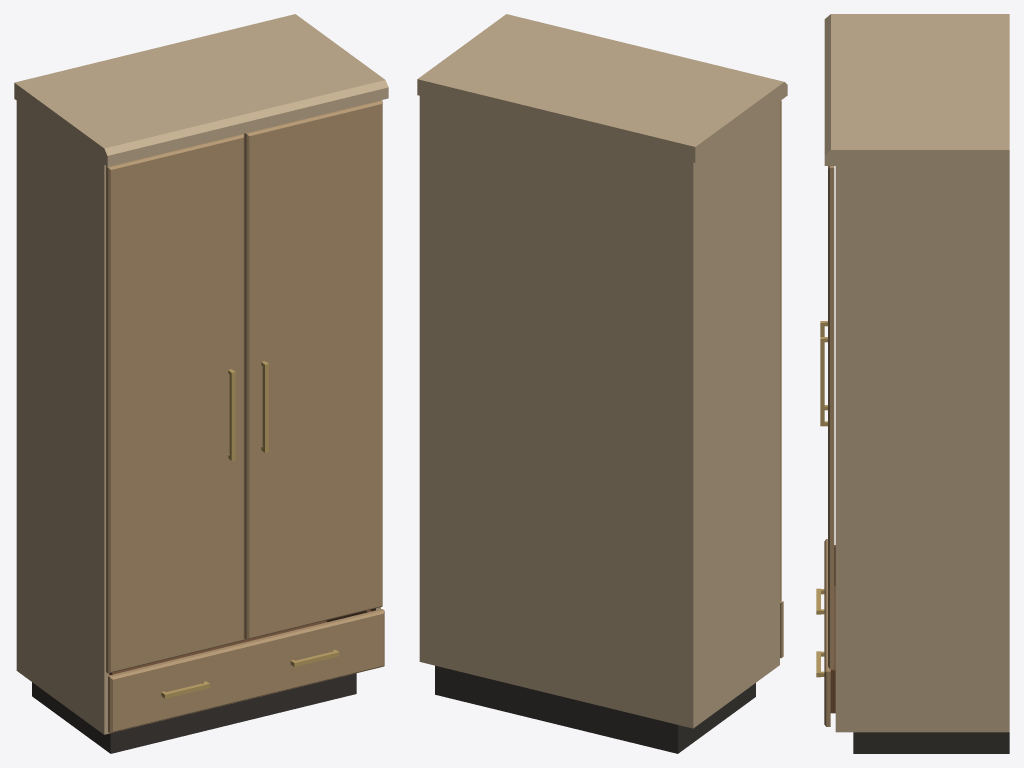
File: home_wardrobe.glb
3 renders of one model, left to right at view 1: azimuth 30°, elevation 25°; view 2: azimuth 150°, elevation 25°; view 3: azimuth 270°, elevation 25°, orthographic.
Visible parts, largest first — view 1: wardrobe, door-l, door-r, drawer; view 2: wardrobe, door-l; view 3: wardrobe, door-r, drawer.
Part boxes in pixels (bbox=[...]): wardrobe: bbox=[14, 14, 388, 753]; door-l: bbox=[106, 134, 244, 673]; door-r: bbox=[244, 100, 382, 639]; drawer: bbox=[108, 609, 384, 733]; wardrobe: bbox=[417, 14, 787, 753]; door-l: bbox=[780, 100, 781, 601]; wardrobe: bbox=[824, 14, 1009, 753]; door-r: bbox=[820, 166, 834, 669]; drawer: bbox=[816, 539, 835, 726].
Size of the model in its own units: 0.9999 by 2.1 by 0.5997.
